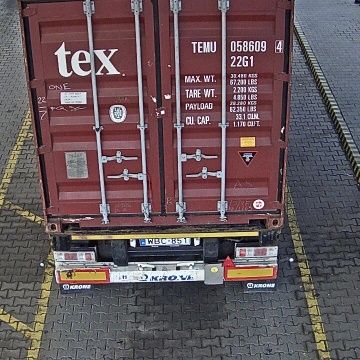serial_id: (191, 40, 283, 52)
